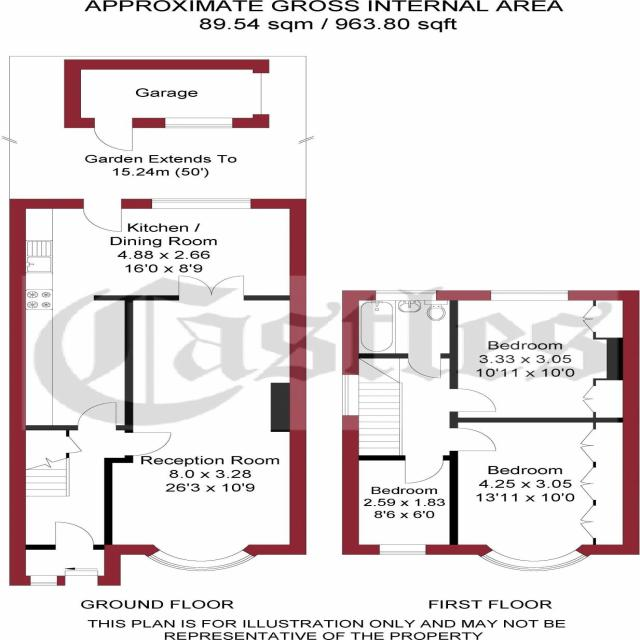DOOR: (79, 199, 127, 234), (399, 455, 447, 487), (74, 399, 123, 430), (125, 430, 176, 458), (449, 387, 500, 414), (450, 427, 499, 454), (52, 521, 96, 550), (405, 353, 446, 380)
DOUBLE DOOR: (169, 268, 251, 302)
ROOM: (8, 199, 307, 432), (102, 263, 306, 585), (450, 417, 640, 570), (450, 290, 640, 422), (342, 455, 459, 555)
WINDOW: (143, 547, 261, 573), (475, 547, 591, 573), (147, 196, 256, 211), (489, 289, 570, 302), (374, 289, 439, 303), (375, 542, 430, 558), (27, 581, 62, 588)
